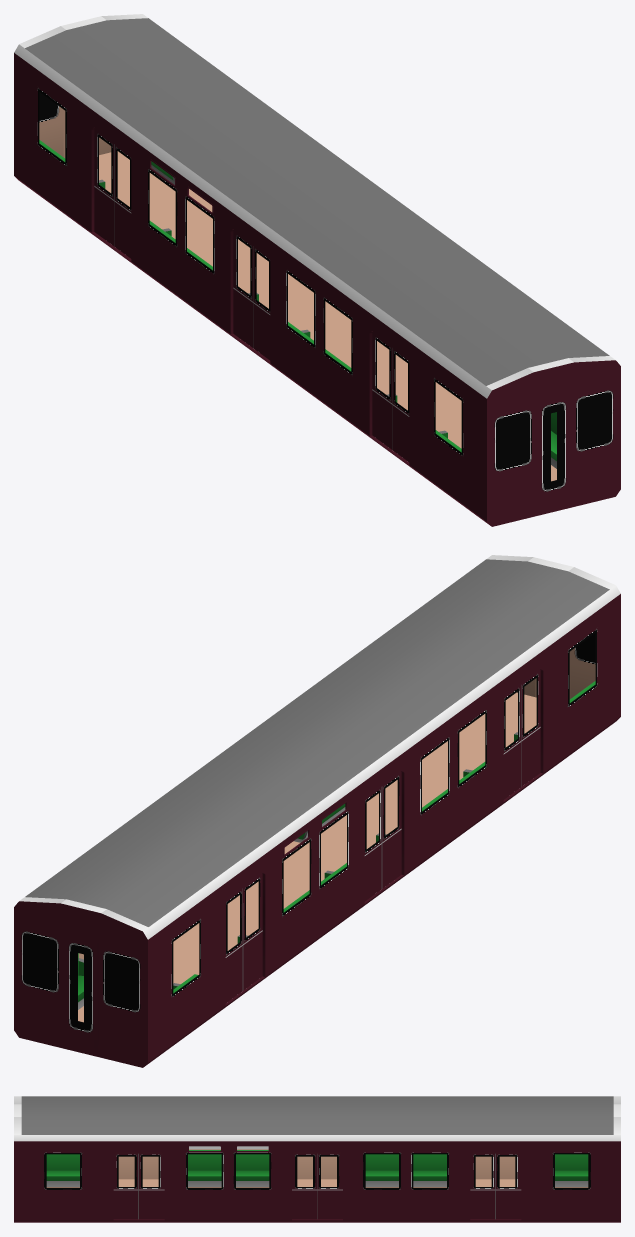
File: HANKYU8200_2.glb
3 views of the same model, one above another, from view 1: azimuth 30°, elevation 25°; view 2: azimuth 150°, elevation 25°; view 3: azimuth 270°, elevation 25° (orthographic). The views are drawn at different scales.
Visible parts, largest first — view 1: front1; view 2: front1; view 3: front1.
Part boxes in pixels (left/top/right/bottom): front1: left=14, top=14, right=620, bottom=526; front1: left=14, top=555, right=620, bottom=1067; front1: left=14, top=1096, right=620, bottom=1222.
Bounding box in the file's own units: 6.25 × 6.42 × 38.1.
Materials: 9 (8 with a texture image).
